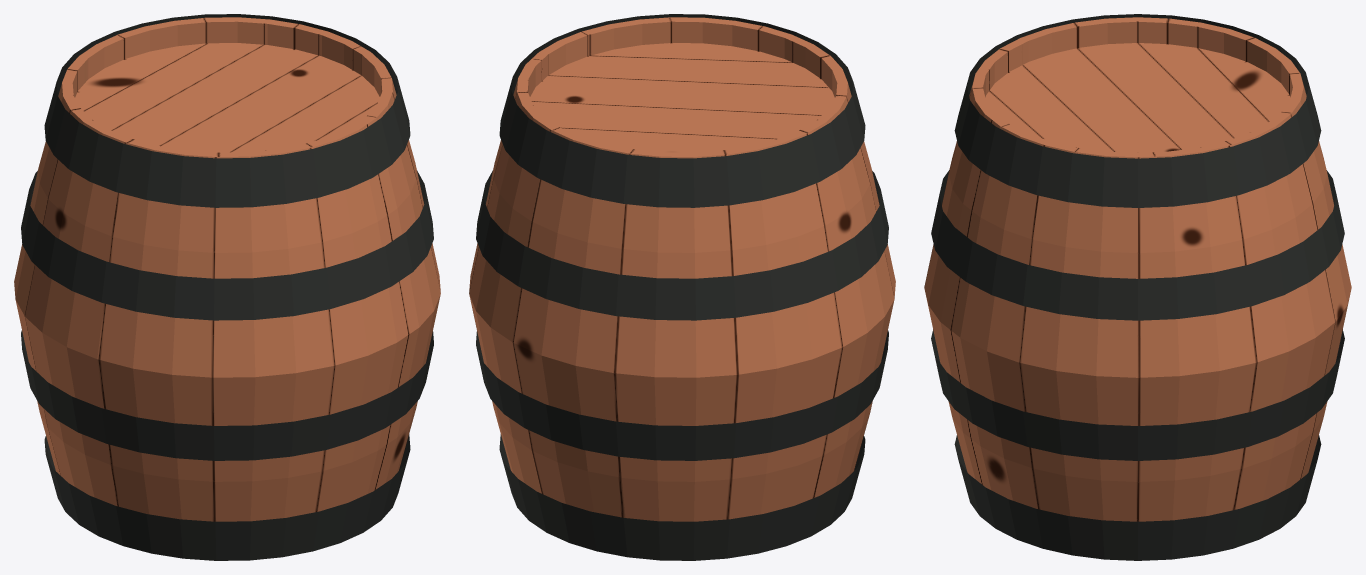
Rendered from Barrel.glb.
3 views of the same model, side by side, from view 1: azimuth 30°, elevation 25°; view 2: azimuth 150°, elevation 25°; view 3: azimuth 270°, elevation 25° (orthographic).
Visible parts, largest first — view 1: Barrel, Metal, Barrel.001, Barrel.002, Metal.001; view 2: Barrel, Metal, Barrel.001, Barrel.002, Metal.001; view 3: Barrel, Metal, Barrel.001, Barrel.002, Metal.001.
Part boxes in pixels (bbox=[...]): Barrel: bbox=[14, 17, 440, 521]; Metal: bbox=[44, 14, 410, 207]; Barrel.001: bbox=[21, 170, 433, 320]; Barrel.002: bbox=[21, 330, 433, 460]; Metal.001: bbox=[44, 434, 410, 560]; Barrel: bbox=[469, 17, 895, 521]; Metal: bbox=[499, 14, 865, 207]; Barrel.001: bbox=[476, 170, 888, 320]; Barrel.002: bbox=[476, 330, 888, 460]; Metal.001: bbox=[499, 434, 865, 560]; Barrel: bbox=[924, 17, 1351, 521]; Metal: bbox=[954, 14, 1321, 207]; Barrel.001: bbox=[931, 170, 1344, 320]; Barrel.002: bbox=[931, 329, 1344, 460]; Metal.001: bbox=[954, 435, 1321, 560].
Bounding box in the file's own units: 0.3869 × 0.4019 × 0.3869.
2 materials, 1 textured.
